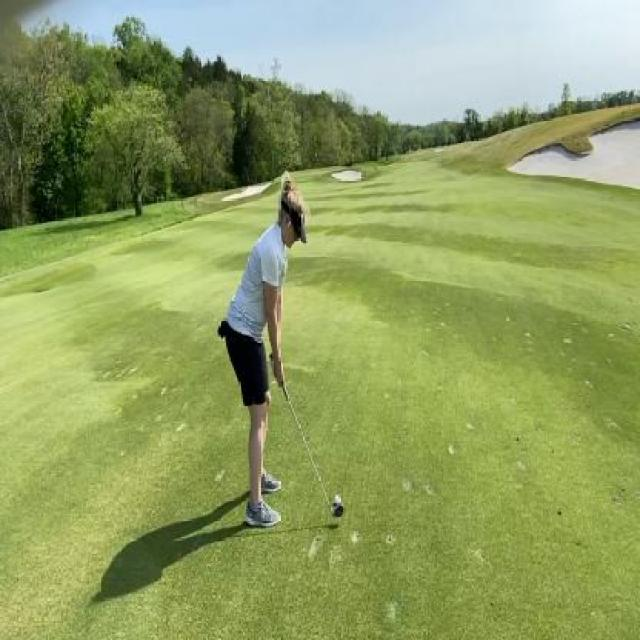club head: (328, 502, 347, 521)
